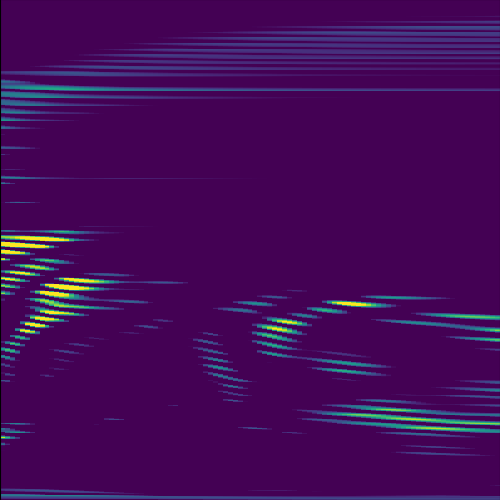semblance: (26, 273, 124, 308), (1, 232, 84, 262), (1, 256, 76, 282)
